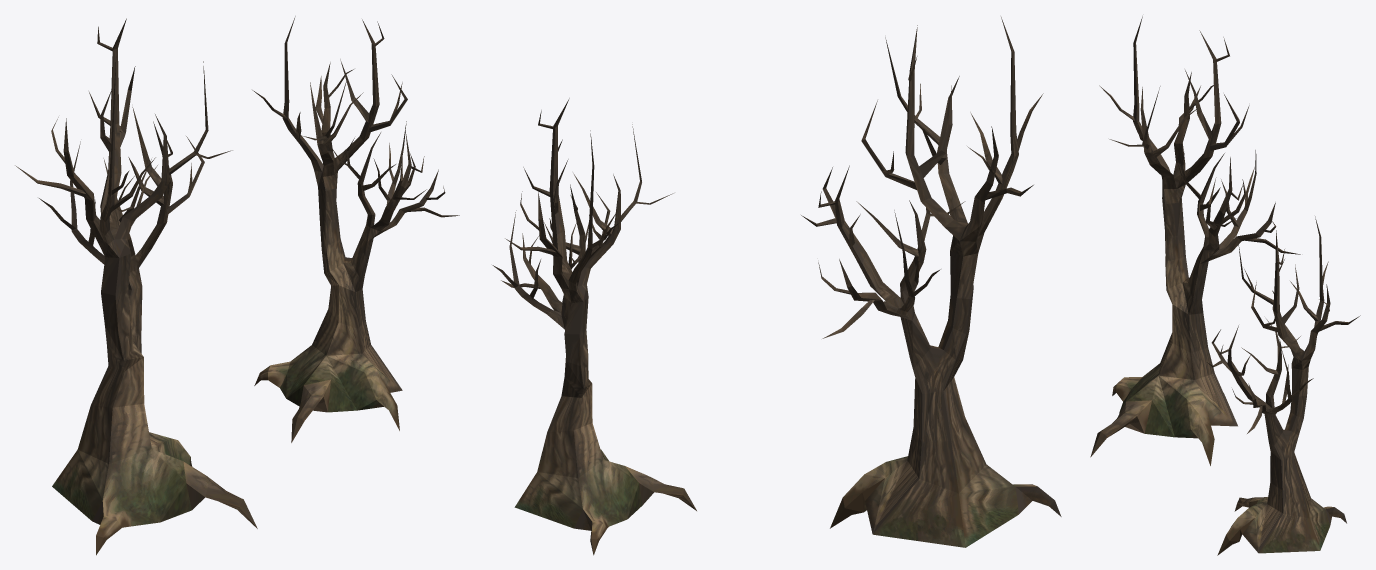
File: plants_tall_tree_trunks05.fbx
3 renders of one model, left to right at view 1: azimuth 30°, elevation 25°; view 2: azimuth 150°, elevation 25°; view 3: azimuth 270°, elevation 25°, orthographic. The views are drawn at different scales.
Parts seen in each view (by area): view 1: obj0.142; view 2: obj0.142; view 3: obj0.142.
Part boxes in pixels (x1,y1,x2,y2): obj0.142: [15, 16, 459, 555]; obj0.142: [492, 17, 1061, 555]; obj0.142: [1090, 16, 1360, 555].
Size of the model in its own units: 9.56 by 9.45 by 5.65.
